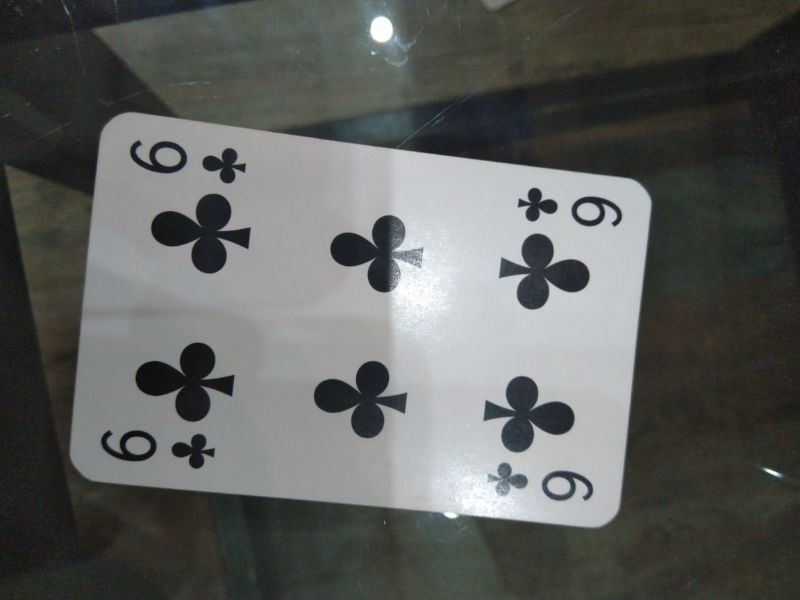6c: (127, 134, 252, 190), (98, 426, 219, 472), (485, 460, 598, 509), (515, 184, 625, 231)
